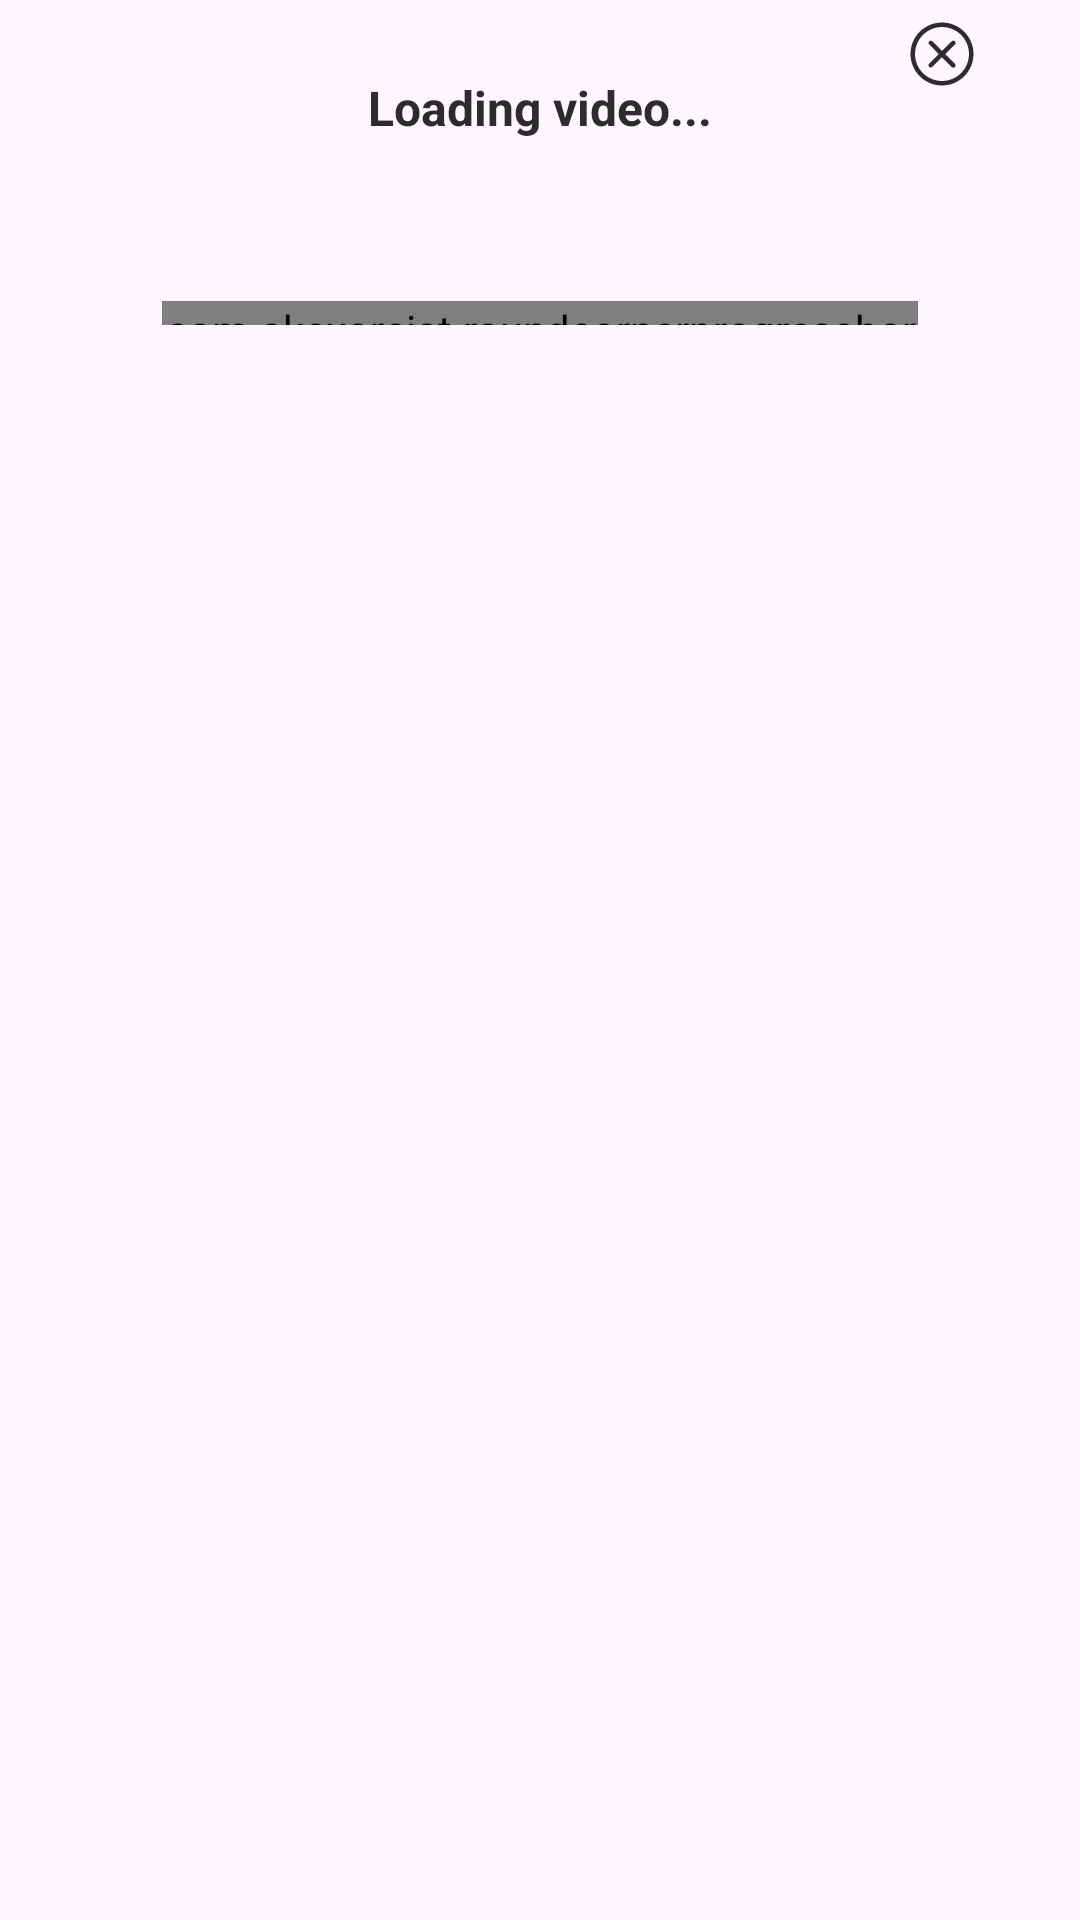

Icons on this 1080 × 1920 Android screen, each with the point to tap as point (x, y):
close: point (942, 54)
